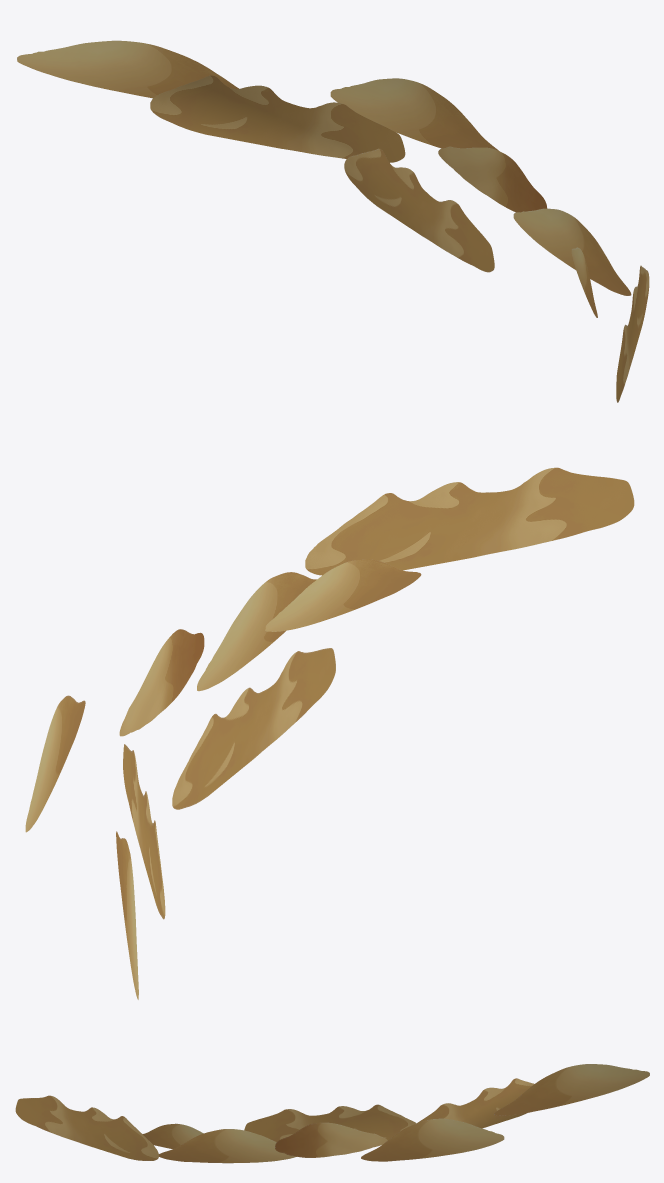
The model's file is Area_15_1.fbx.
3 views of the same model, one above another, from view 1: azimuth 30°, elevation 25°; view 2: azimuth 150°, elevation 25°; view 3: azimuth 270°, elevation 25° (orthographic). The views are drawn at different scales.
Parts seen in each view (by area): view 1: Area_15_1; view 2: Area_15_1; view 3: Area_15_1.
Part boxes in pixels (x1,y1,x2,y2): Area_15_1: (17, 40, 649, 402); Area_15_1: (25, 467, 634, 999); Area_15_1: (15, 1064, 649, 1163).
Size of the model in its own units: 14788 by 4834 by 46748.
1 material, 1 textured.
